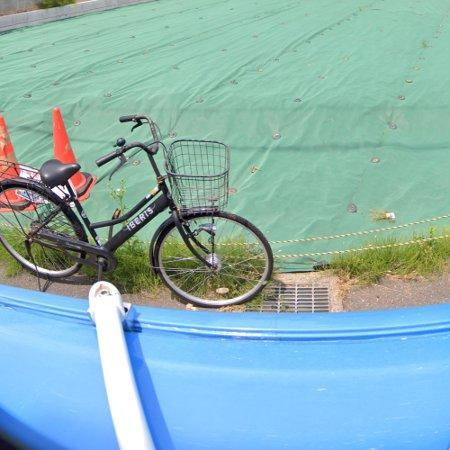bicycles: (0, 116, 274, 307)
